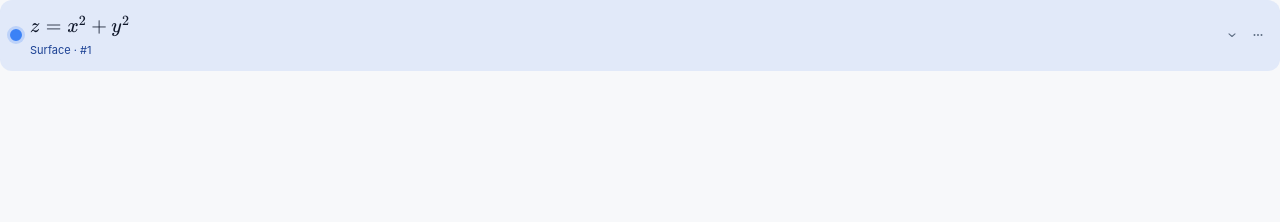
Test: ObjectRow workspace behavior › displays inline diagnostics for invalid equations and clears them when fixed
The width and height of the screenshot is (1280, 222).
Click the button named "Expand definition" at point(1232, 35), box top-left (1220, 21), bottom-right (1244, 49)
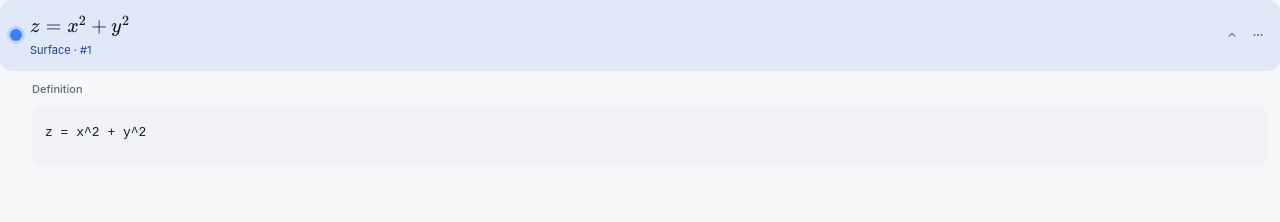
Replace the text in the field named "Equation" with "sin(" at point(628, 132), box top-left (45, 116), bottom-right (1211, 148)
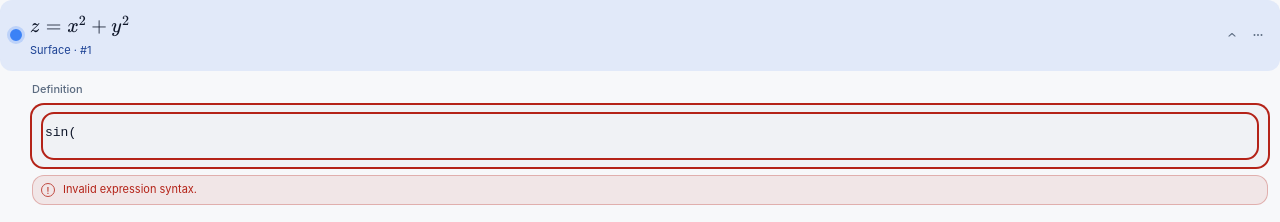
Expected: the message "! Invalid expression syntax." is shown, top-left (32, 175), bottom-right (1268, 205)
Replace the text in the field named "Equation" with "z = sin(x)" at point(628, 132), box top-left (45, 116), bottom-right (1211, 148)
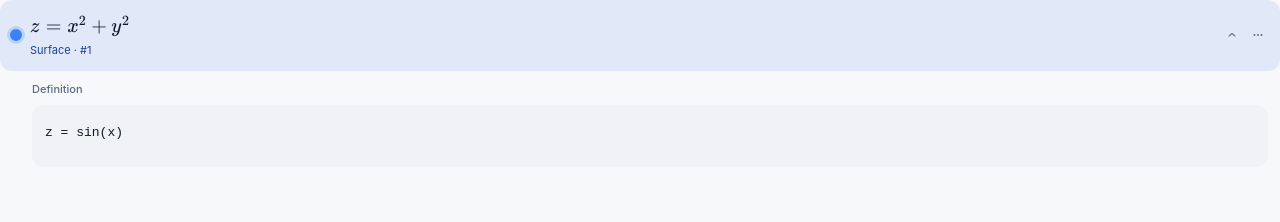
Expected: the message with test id "expression-diagnostic" is gone
